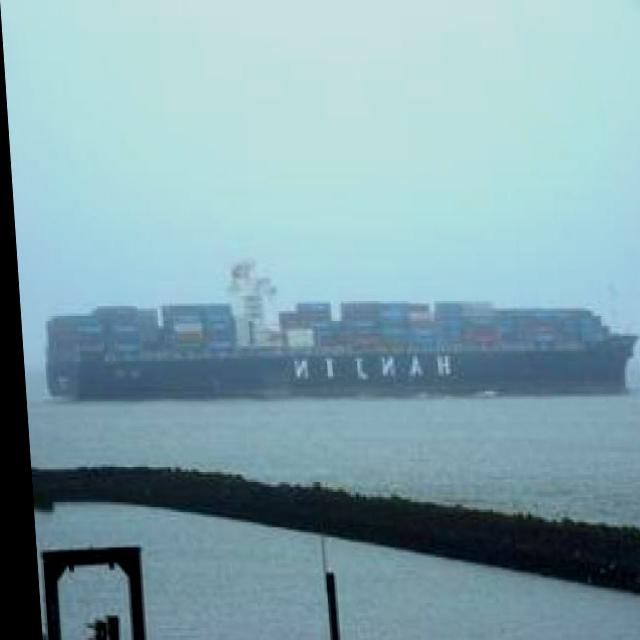ship2: (39, 256, 633, 405)
